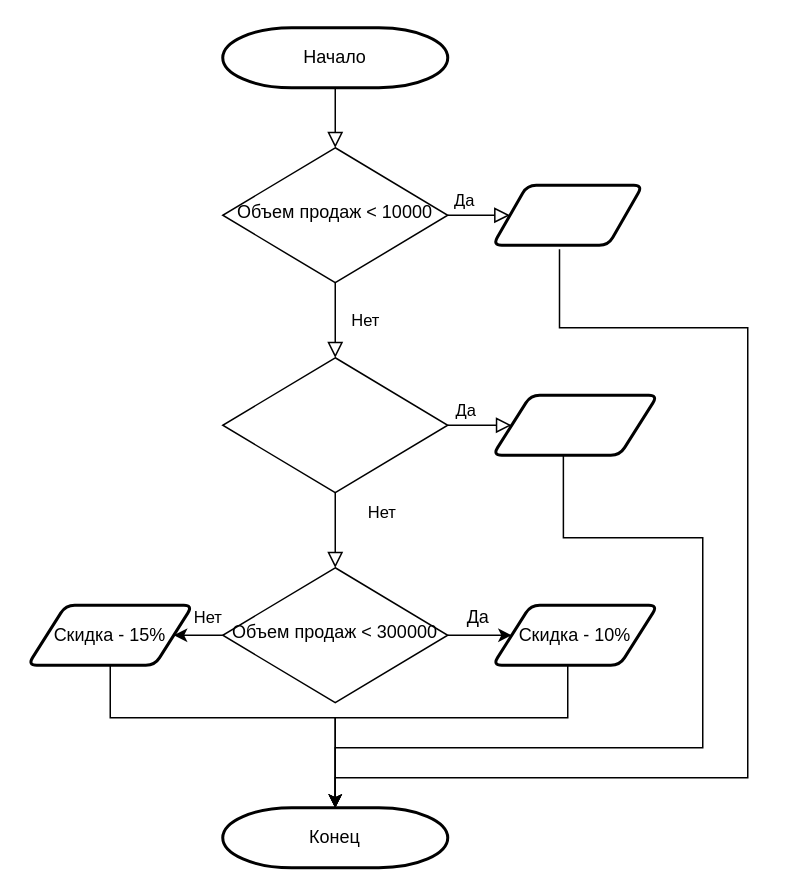
This 786x894 diagram has some shape labels left out. Each missing label, with the centre of its shape:
"Объем продаж < 50000" belongs at pixel 334 424.
"Скидка - 0%" belongs at pixel 567 214.
"Скидка - 5 %" belongs at pixel 574 424.
